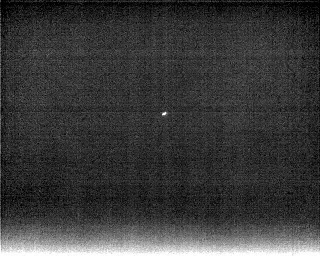BIRD: (160, 109, 169, 118)
